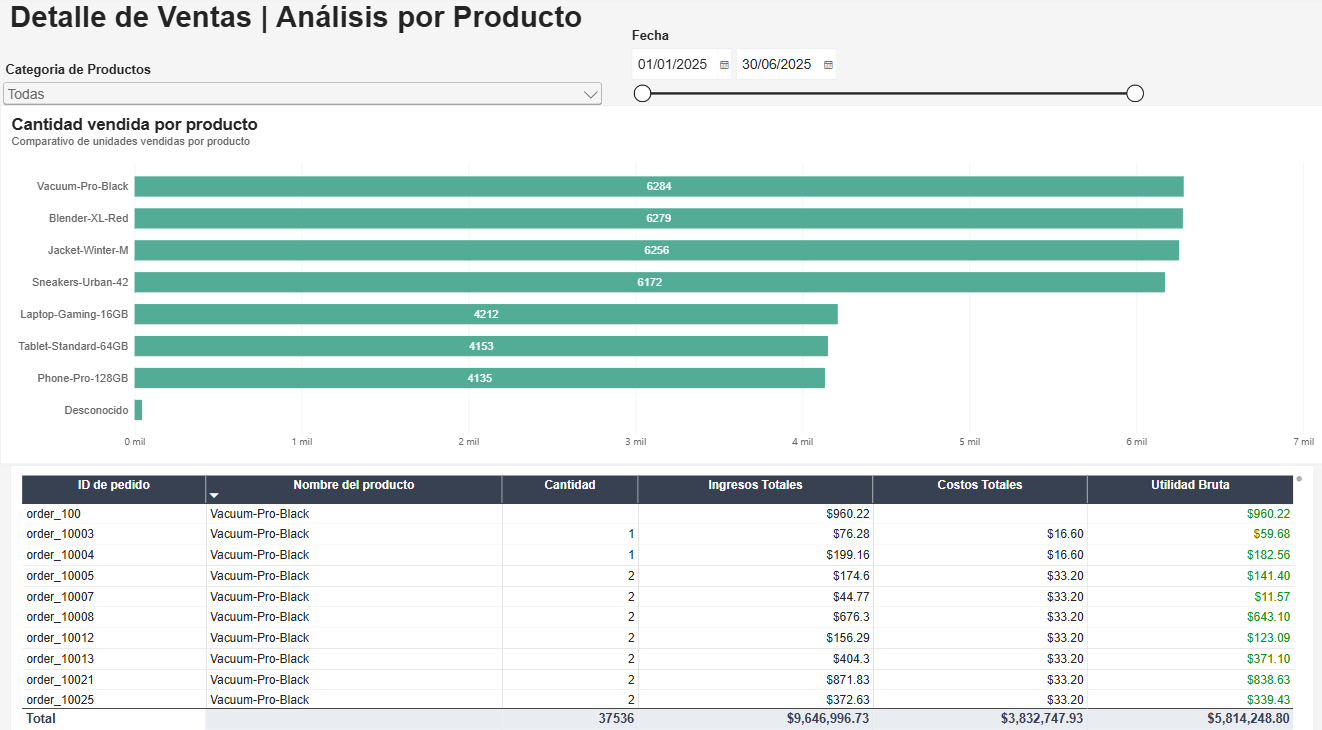

The page's visual inventory and layout, read from the dashboard file:
{"tool":"powerbi","page":{"name":"Dashboard_2 Detalle de Ventas","canvas":[1920,1080],"ordinal":1},"visuals":[{"type":"tableEx","fields":{"Values":["orders_clean.id_pedido","catalog_clean.nombre_producto","Sum(orders_clean.cantidad)","orders_clean.Revenue Total","orders_clean.Costo Total","orders_clean.Profit Bruto"]},"box":[14,680,1888,400],"z":0},{"type":"clusteredBarChart","title":"Cantidad vendida por producto","fields":{"Category":["orders_clean.nombre_producto"],"Y":["Sum(orders_clean.cantidad)"]},"box":[0,160,1920,520],"z":1000},{"type":"slicer","fields":{"Values":["orders_clean.categoria_producto"]},"box":[0,98,876,62],"z":2000},{"type":"slicer","fields":{"Values":["dim_fecha.Date"]},"box":[906,48,752.8,164.7],"z":3000},{"type":"textbox","box":[14,8,1628,72],"z":4000}]}

Visuals, with their boxes in screenshot pixels (x1, y1, x2, y2), scaled from the page's 1920x1080 canvas onto the 1322x730 screenshot:
tableEx - orders_clean.id_pedido x catalog_clean.nombre_producto: x1=10, y1=460, x2=1310, y2=729
"Cantidad vendida por producto" clusteredBarChart: x1=0, y1=108, x2=1321, y2=460
slicer - orders_clean.categoria_producto: x1=0, y1=66, x2=603, y2=108
slicer - dim_fecha.Date: x1=624, y1=32, x2=1142, y2=144
textbox: x1=10, y1=5, x2=1131, y2=54
